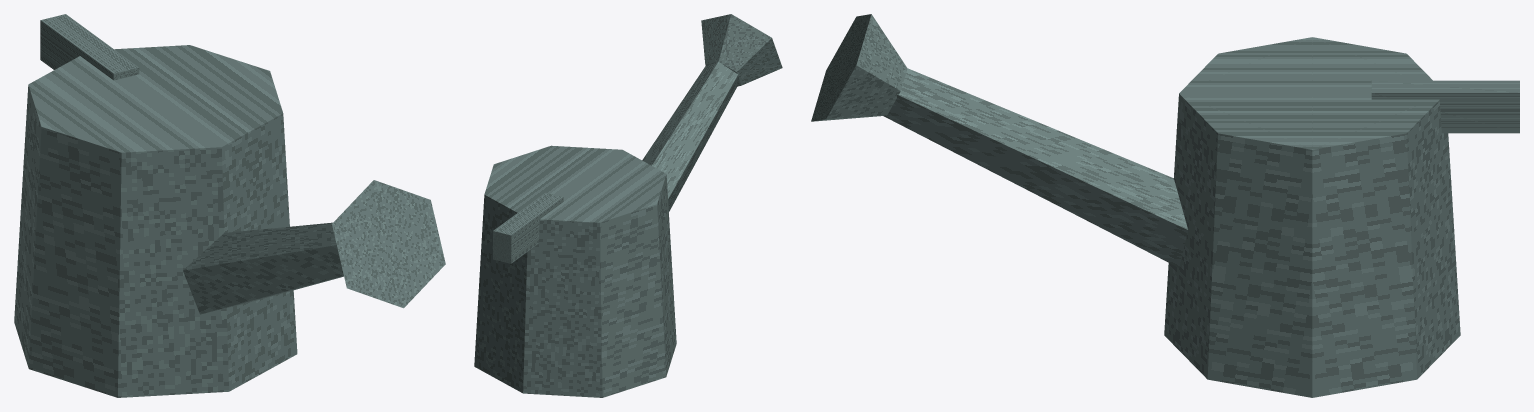
The model's file is tool-watering-can.glb.
3 renders of one model, left to right at view 1: azimuth 30°, elevation 25°; view 2: azimuth 150°, elevation 25°; view 3: azimuth 270°, elevation 25°, orthographic. The views are drawn at different scales.
Visible parts, largest first — view 1: watering-can; view 2: watering-can; view 3: watering-can.
Part boxes in pixels (x1,y1,x2,y2): watering-can: [14, 14, 445, 397]; watering-can: [474, 14, 782, 397]; watering-can: [811, 14, 1519, 397].
Bounding box in the file's own units: 0.2 × 0.2392 × 0.4782.
Materials: 1 (1 with a texture image).
